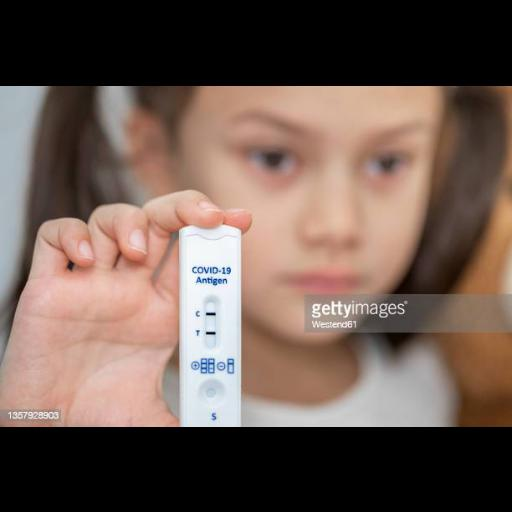Pos: (180, 224, 240, 426)
